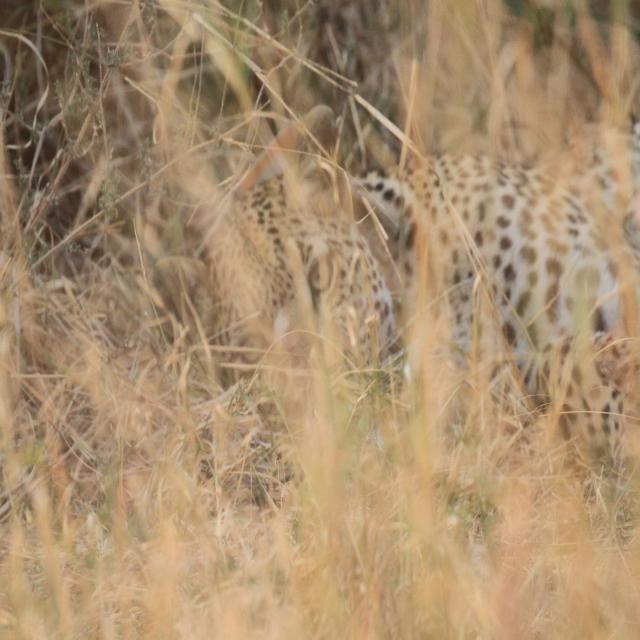Leopard: (163, 103, 636, 483)
